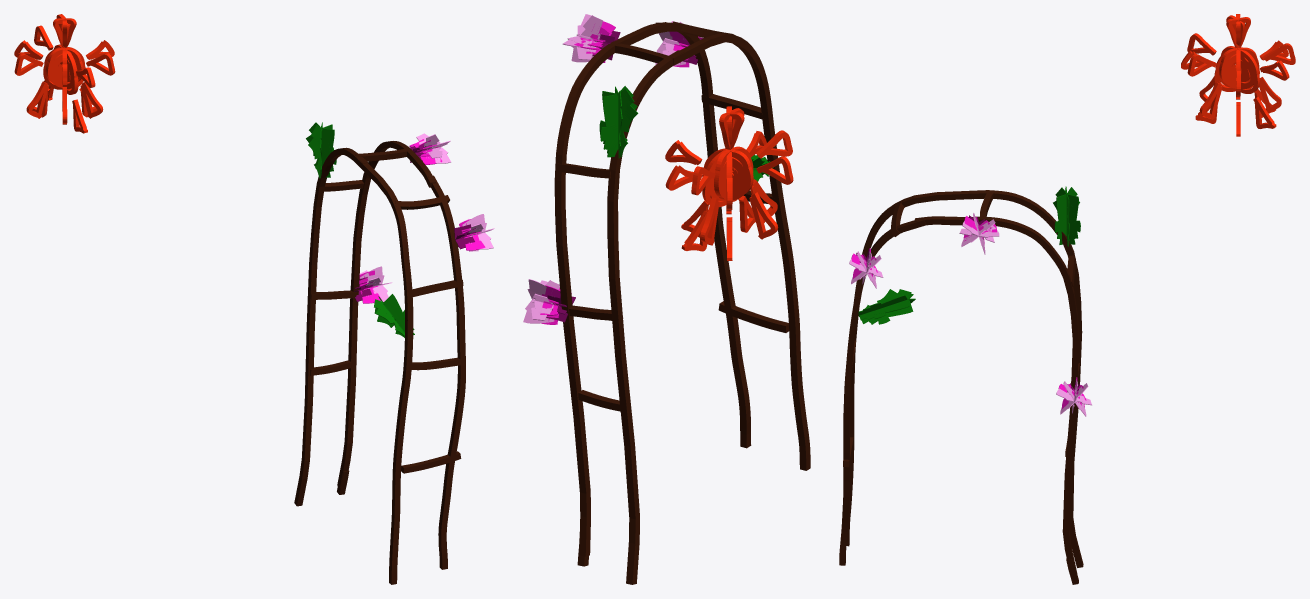
3 renders of one model, left to right at view 1: azimuth 30°, elevation 25°; view 2: azimuth 150°, elevation 25°; view 3: azimuth 270°, elevation 25°, orthographic. The views are drawn at different scales.
Parts seen in each view (by area): view 1: Group.Group (1).Curve.5, Group.Group (1).Curve.0, Group.Group (1).Curve.10, Group.Group (1).Curve.1, Group.Group.Curve.18; view 2: Group.Group (1).Curve.1, Group.Group (1).Curve.0, Group.Group (1).Curve.5, Group.Group (1).Curve.10, Group.Group.Curve.18, Group.Group (1).Curve.6, Group.Group (1).Curve.8, Group.Group 1.Curve.1, Group.Group.Curve.27, Group.Group.Curve.29, Group.Group.Curve.20, Group.Group (1).Curve.11 (+7 smaller); view 3: Group.Group (1).Curve.1, Group.Group (1).Curve.10, Group.Group (1).Curve.0, Group.Group (1).Curve.5, Group.Group.Curve.27, Group.Group.Curve.0.
Part boxes in pixels (x1=…): Group.Group (1).Curve.5: x1=354, y1=156, x2=413, y2=584; Group.Group (1).Curve.0: x1=294, y1=147, x2=368, y2=506; Group.Group (1).Curve.10: x1=428, y1=175, x2=465, y2=569; Group.Group (1).Curve.1: x1=337, y1=141, x2=435, y2=488; Group.Group.Curve.18: x1=45, y1=47, x2=85, y2=89; Group.Group (1).Curve.1: x1=554, y1=22, x2=671, y2=556; Group.Group (1).Curve.0: x1=607, y1=50, x2=684, y2=584; Group.Group (1).Curve.5: x1=672, y1=33, x2=810, y2=470; Group.Group (1).Curve.10: x1=655, y1=22, x2=751, y2=448; Group.Group.Curve.18: x1=702, y1=148, x2=753, y2=200; Group.Group (1).Curve.6: x1=718, y1=301, x2=789, y2=332; Group.Group (1).Curve.8: x1=701, y1=94, x2=763, y2=119; Group.Group 1.Curve.1: x1=603, y1=86, x2=633, y2=146; Group.Group.Curve.27: x1=702, y1=146, x2=753, y2=207; Group.Group.Curve.29: x1=756, y1=130, x2=792, y2=158; Group.Group.Curve.20: x1=756, y1=156, x2=793, y2=184; Group.Group (1).Curve.11: x1=615, y1=43, x2=672, y2=63; Group.Group (1).Curve.1: x1=914, y1=216, x2=1079, y2=575; Group.Group (1).Curve.10: x1=839, y1=217, x2=926, y2=565; Group.Group (1).Curve.0: x1=972, y1=190, x2=1083, y2=567; Group.Group (1).Curve.5: x1=846, y1=190, x2=989, y2=546; Group.Group.Curve.27: x1=1221, y1=46, x2=1259, y2=93; Group.Group.Curve.0: x1=1219, y1=47, x2=1259, y2=88.
Size of the model in its own units: 11.09 by 16.5 by 14.45.
